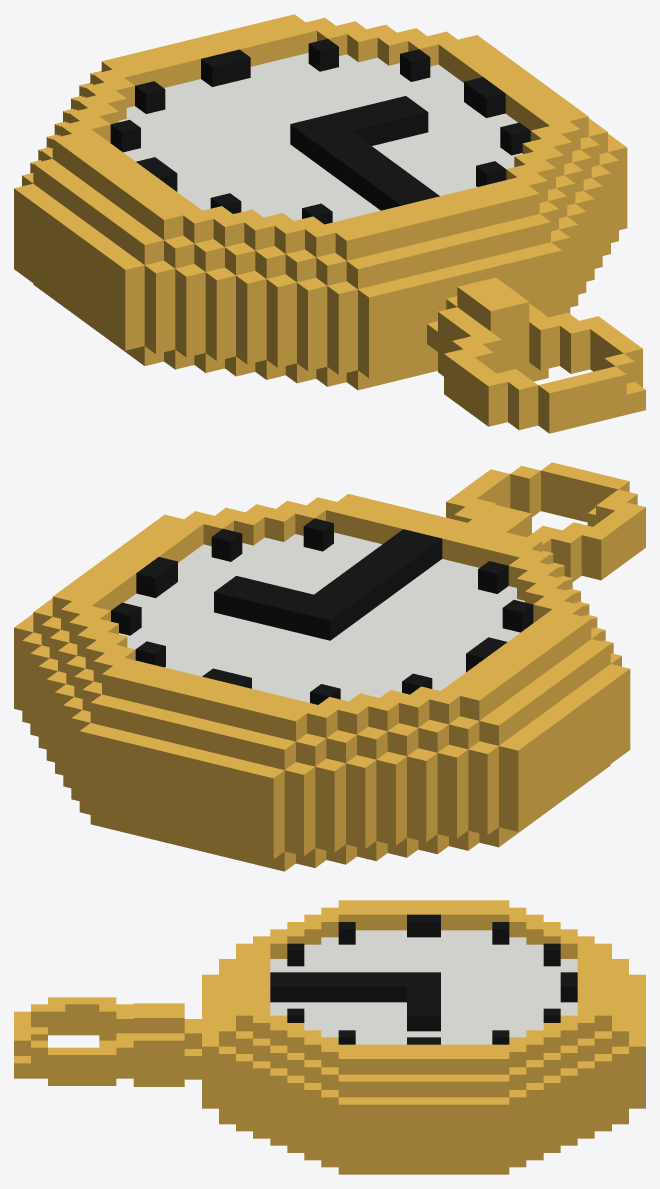
The model's file is pocketwatch.glb.
3 views of the same model, one above another, from view 1: azimuth 30°, elevation 25°; view 2: azimuth 150°, elevation 25°; view 3: azimuth 270°, elevation 25° (orthographic). The views are drawn at different scales.
Visible parts, largest first — view 1: pocketwatch:compound; view 2: pocketwatch:compound; view 3: pocketwatch:compound.
Part boxes in pixels (<box>): pocketwatch:compound: <box>14,14,645,433</box>; pocketwatch:compound: <box>14,462,645,871</box>; pocketwatch:compound: <box>14,900,645,1174</box>.
Size of the model in its own units: 0.052 by 0.014 by 0.074.
